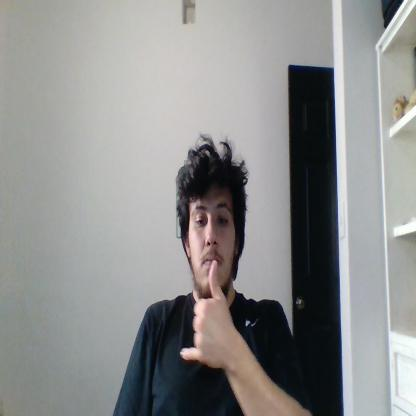Y: (179, 258, 234, 367)
